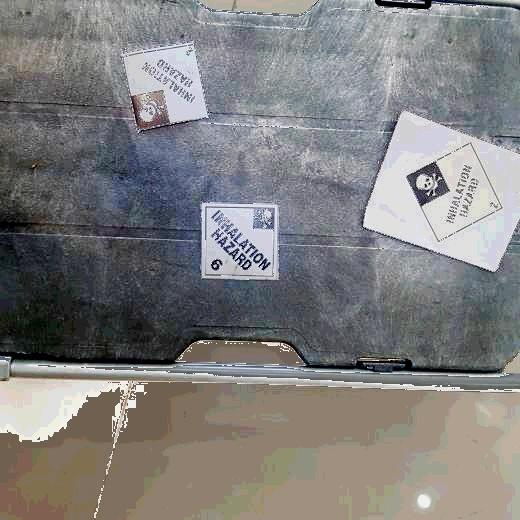poison: (406, 142, 505, 241), (119, 41, 211, 134), (198, 201, 279, 283)
